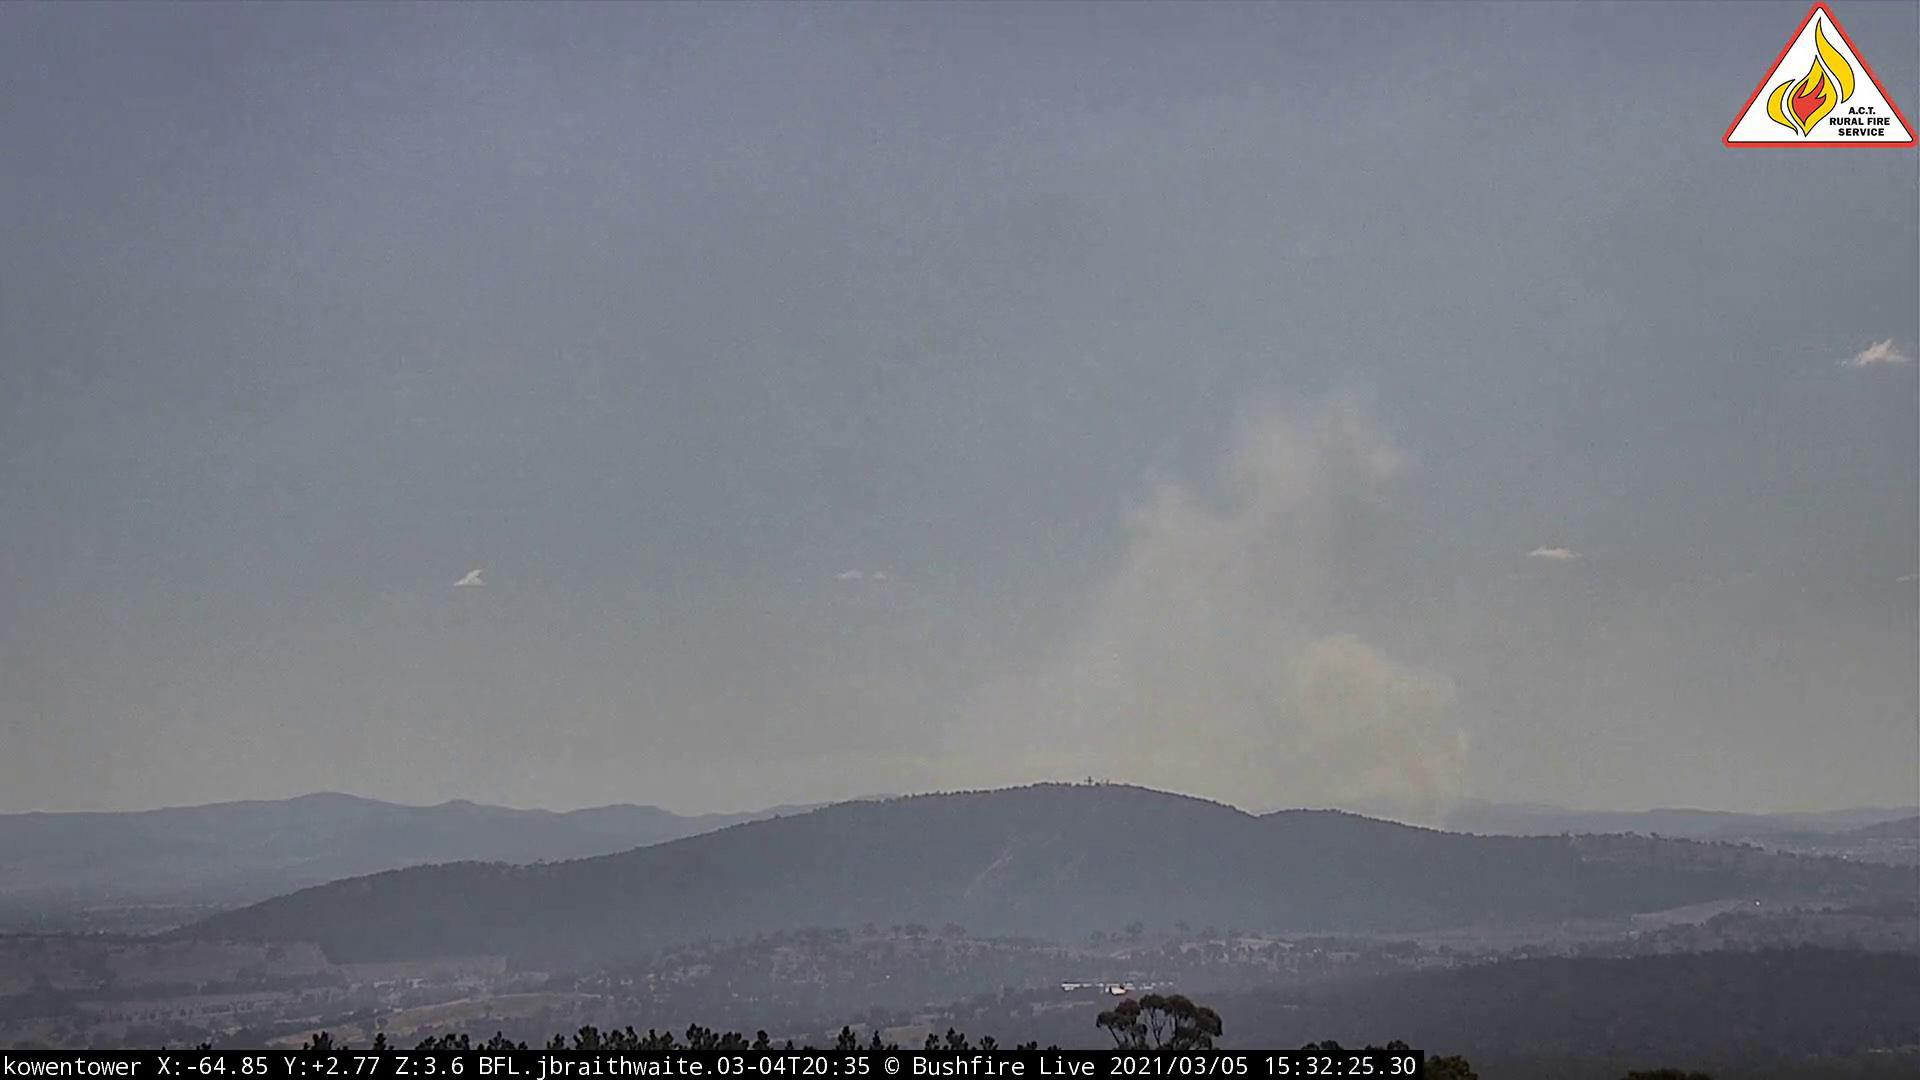instance_salient_object: (986, 378, 1458, 841)
